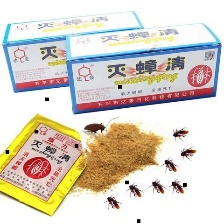book: (63, 18, 224, 118), (0, 7, 163, 96)
insecticide: (0, 110, 90, 219)
